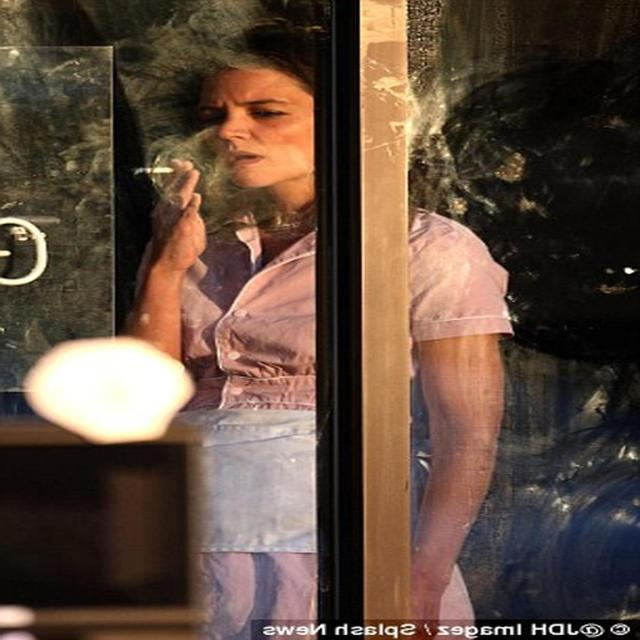smoking: (127, 26, 323, 227)
